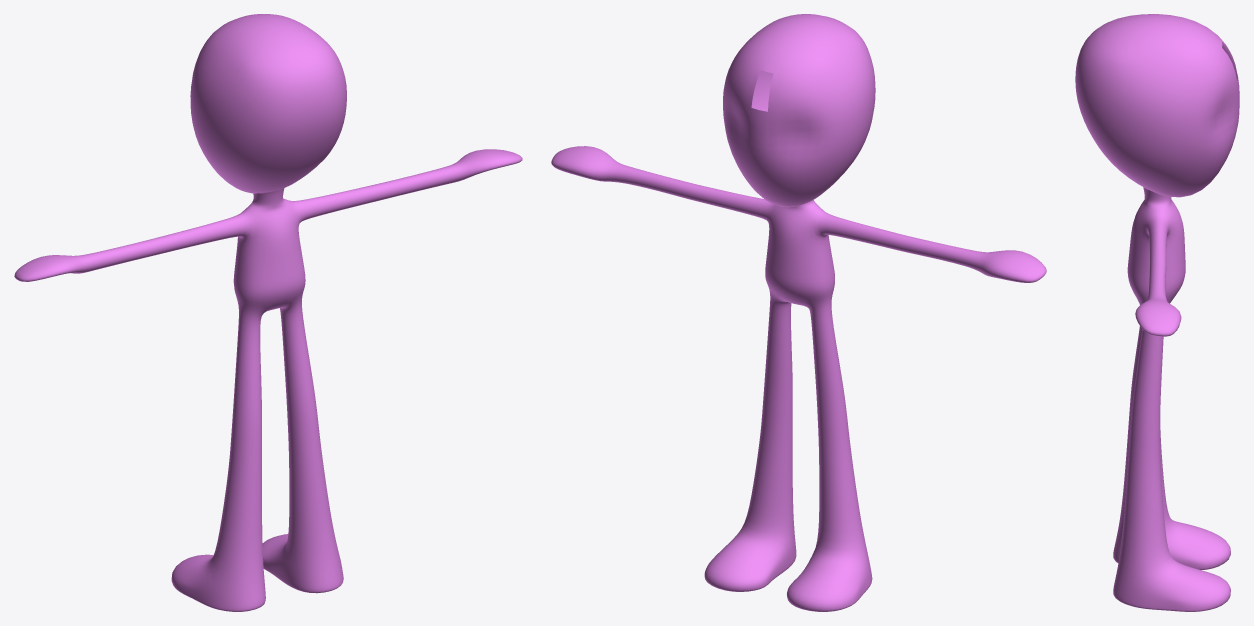
The model's file is character2.fbx.
The picture shows the model from 3 angles, left to right: view 1: azimuth 30°, elevation 25°; view 2: azimuth 150°, elevation 25°; view 3: azimuth 270°, elevation 25°; orthographic projection. The views are drawn at different scales.
Parts seen in each view (by area): view 1: head; view 2: head; view 3: head.
Part boxes in pixels (<box>): head: <box>14,14,522,611</box>; head: <box>551,14,1046,611</box>; head: <box>1075,14,1239,611</box>.
Size of the model in its own units: 350 by 376 by 101.
